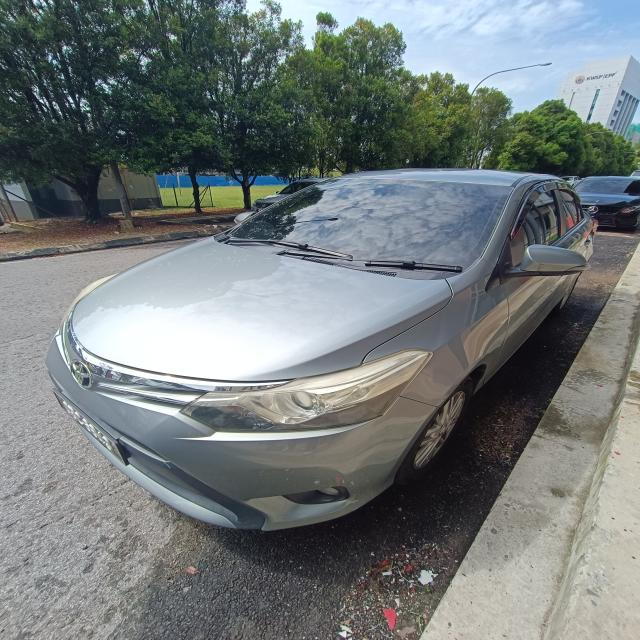ToyotaVios: (44, 167, 598, 532)
